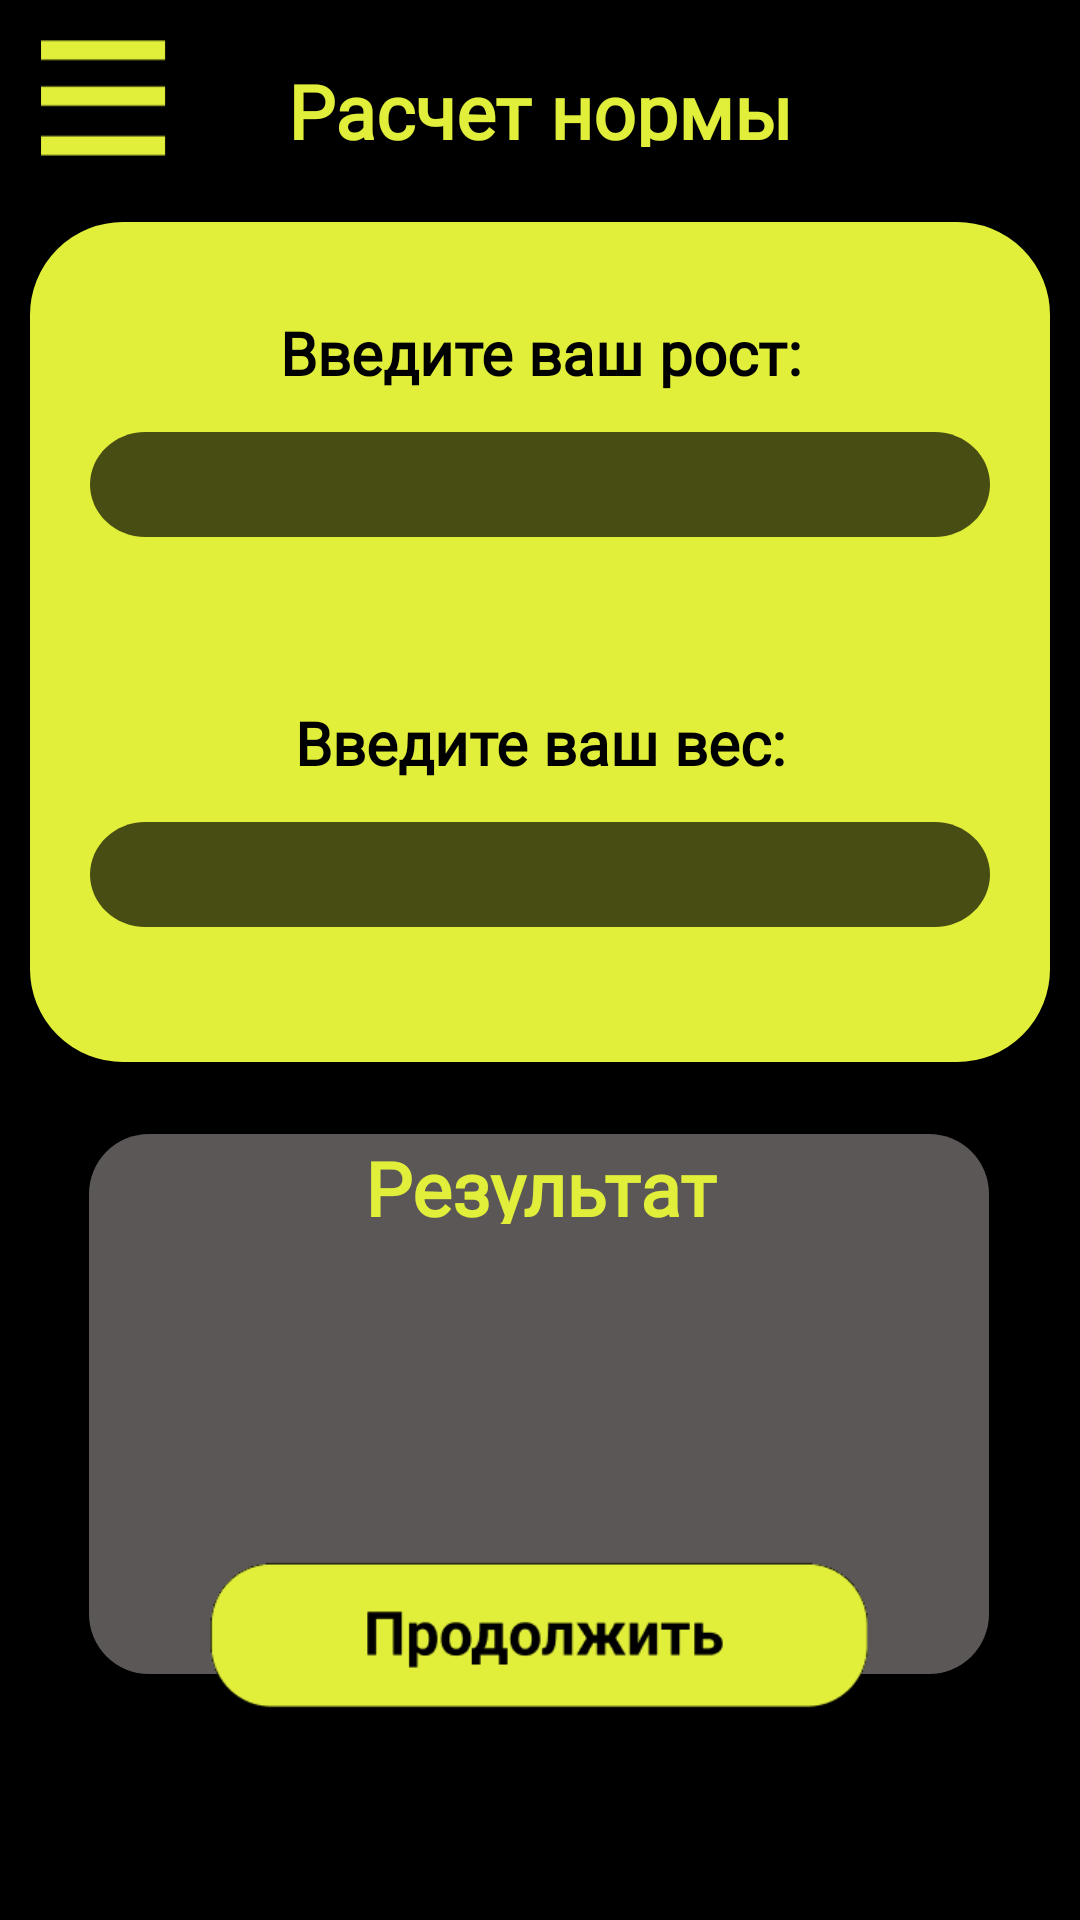

Named icons in this screenshot (1080 × 1920) and their centers, point (x, y):
menu: point (103, 98)
